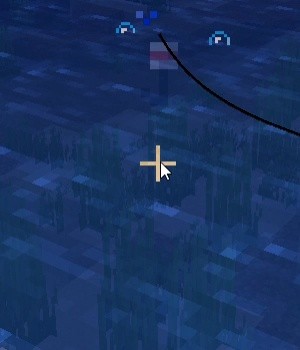down: (141, 32, 186, 110)
